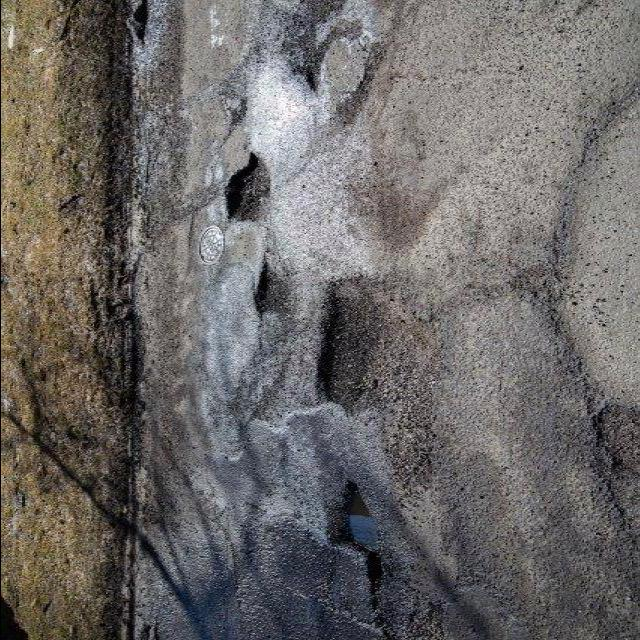lubang: (311, 453, 401, 612), (302, 268, 395, 417), (272, 1, 350, 98), (576, 386, 638, 485), (248, 248, 314, 331), (220, 144, 280, 235)
